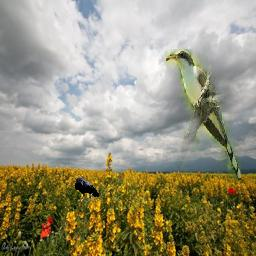Crow: (75, 178, 100, 203)
Cuckoo: (167, 50, 242, 181)
